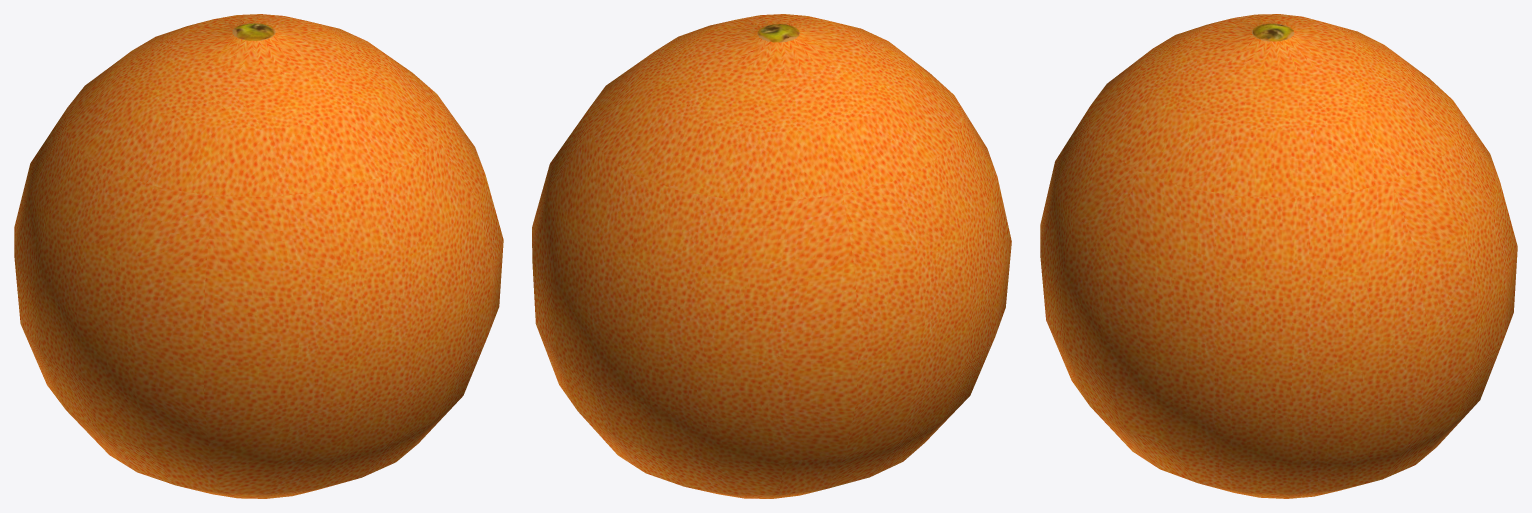
File: Orange.fbx
3 views of the same model, side by side, from view 1: azimuth 30°, elevation 25°; view 2: azimuth 150°, elevation 25°; view 3: azimuth 270°, elevation 25° (orthographic). The views are drawn at different scales.
Parts seen in each view (by area): view 1: Sphere001; view 2: Sphere001; view 3: Sphere001.
Part boxes in pixels (left/top/right/bottom): Sphere001: left=14, top=14, right=503, bottom=498; Sphere001: left=532, top=14, right=1011, bottom=498; Sphere001: left=1040, top=14, right=1517, bottom=498.
Size of the model in its own units: 3.89 by 3.89 by 3.88.
1 material, 1 textured.
